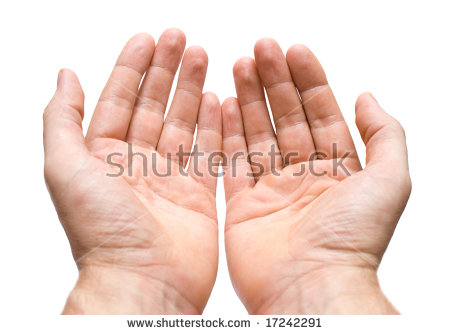palm: (98, 156, 209, 284), (250, 181, 366, 279)
